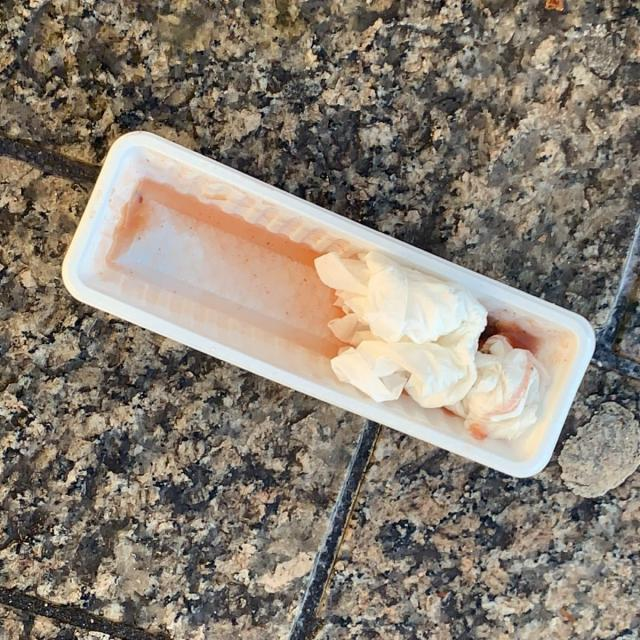Paper: (312, 246, 554, 447)
Plastic: (60, 126, 598, 484)
